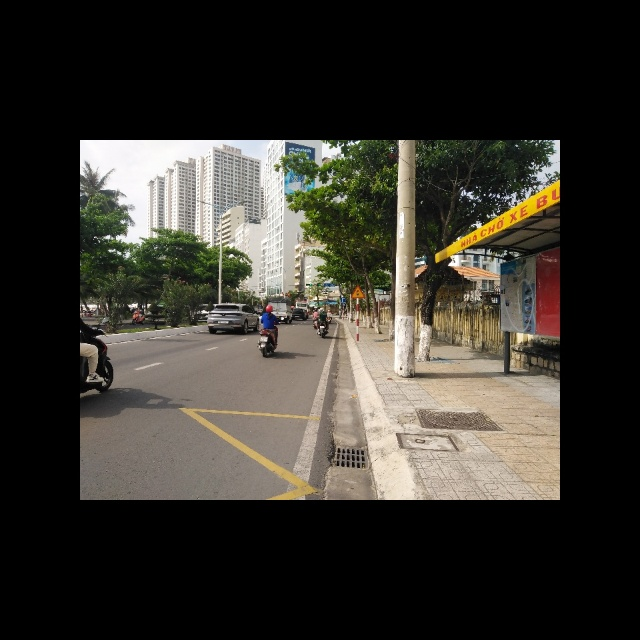Giao nhau có tín hiệu đèn: (350, 283, 366, 298)
